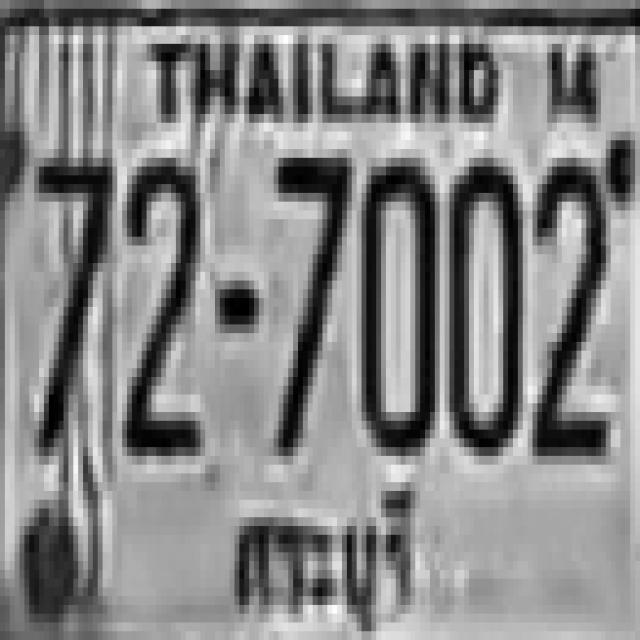0: (356, 149, 434, 447), (444, 149, 518, 447)
2: (530, 144, 618, 452), (530, 144, 608, 452), (118, 149, 196, 447)
7: (273, 149, 347, 447), (34, 144, 108, 442)
SaraBuri: (227, 476, 425, 640)
